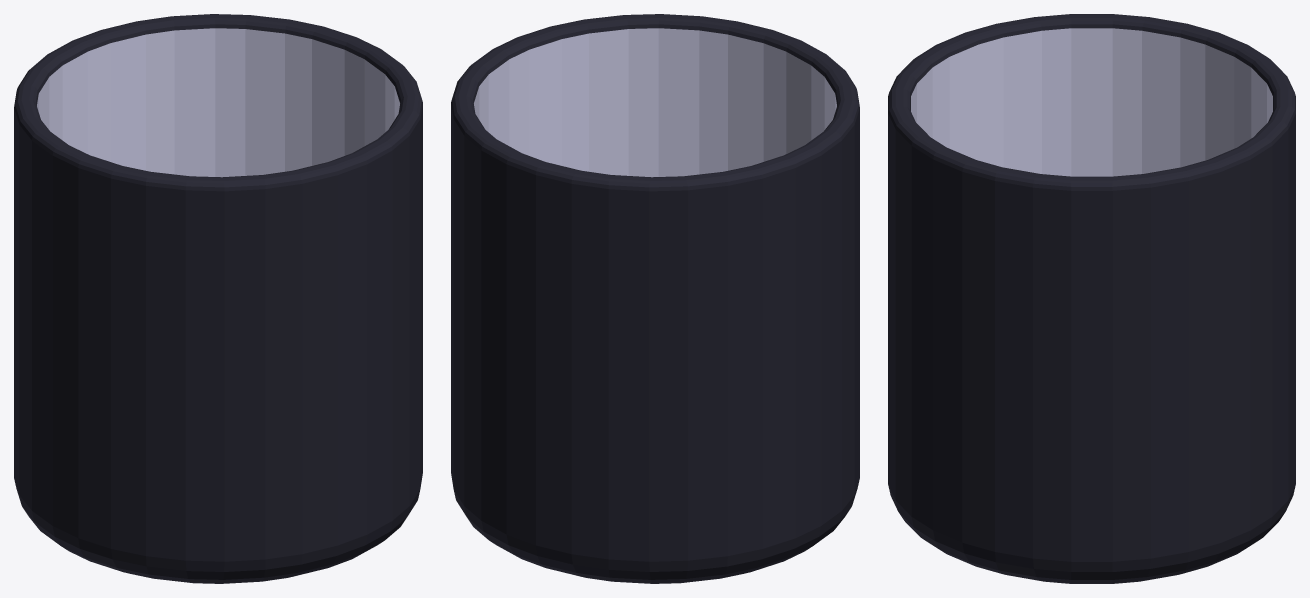
File: utensils cup textured.fbx
3 renders of one model, left to right at view 1: azimuth 30°, elevation 25°; view 2: azimuth 150°, elevation 25°; view 3: azimuth 270°, elevation 25°, orthographic.
Visible parts, largest first — view 1: Cylinder.002; view 2: Cylinder.002; view 3: Cylinder.002.
Part boxes in pixels (<box>): Cylinder.002: <box>14,14,422,583</box>; Cylinder.002: <box>451,14,859,583</box>; Cylinder.002: <box>888,14,1295,583</box>.
Size of the model in its own units: 233 by 260 by 233.
